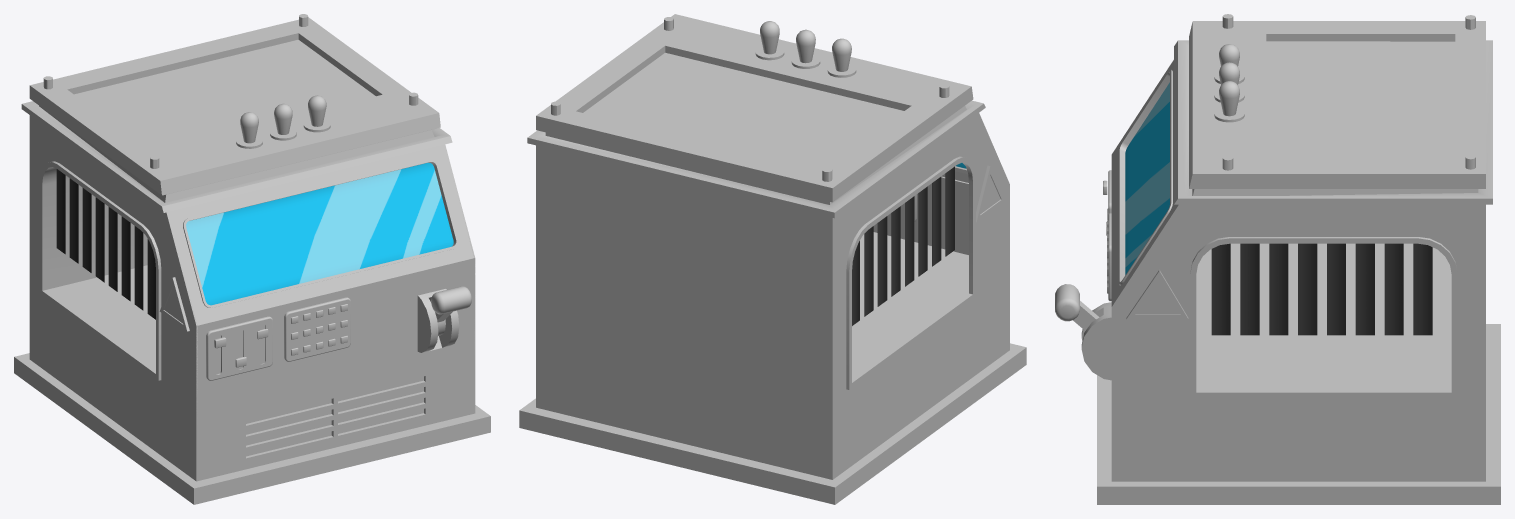
The model's file is Machine_v4_5.fbx.
3 renders of one model, left to right at view 1: azimuth 30°, elevation 25°; view 2: azimuth 150°, elevation 25°; view 3: azimuth 270°, elevation 25°, orthographic. The views are drawn at different scales.
Parts seen in each view (by area): view 1: Machn_v4_5, Plane_v4_5, Machn_v4_5_Part, Machn_v4_5_PartButton; view 2: Machn_v4_5, Plane_v4_5; view 3: Machn_v4_5, Plane_v4_5_2, Machn_v4_5_Part, Machn_v4_5_PartButton.
Part boxes in pixels (left/top/right/bottom): Machn_v4_5: left=14, top=14, right=490, bottom=504; Plane_v4_5: left=56, top=169, right=155, bottom=319; Machn_v4_5_Part: left=417, top=289, right=459, bottom=352; Machn_v4_5_PartButton: left=431, top=286, right=471, bottom=322; Machn_v4_5: left=519, top=14, right=1026, bottom=504; Plane_v4_5: left=852, top=166, right=954, bottom=325; Machn_v4_5: left=1097, top=14, right=1500, bottom=504; Plane_v4_5_2: left=1211, top=243, right=1432, bottom=335; Machn_v4_5_Part: left=1081, top=302, right=1111, bottom=380; Machn_v4_5_PartButton: left=1055, top=284, right=1099, bottom=330.
Bounding box in the file's own units: 2.63 × 2.72 × 3.05.
